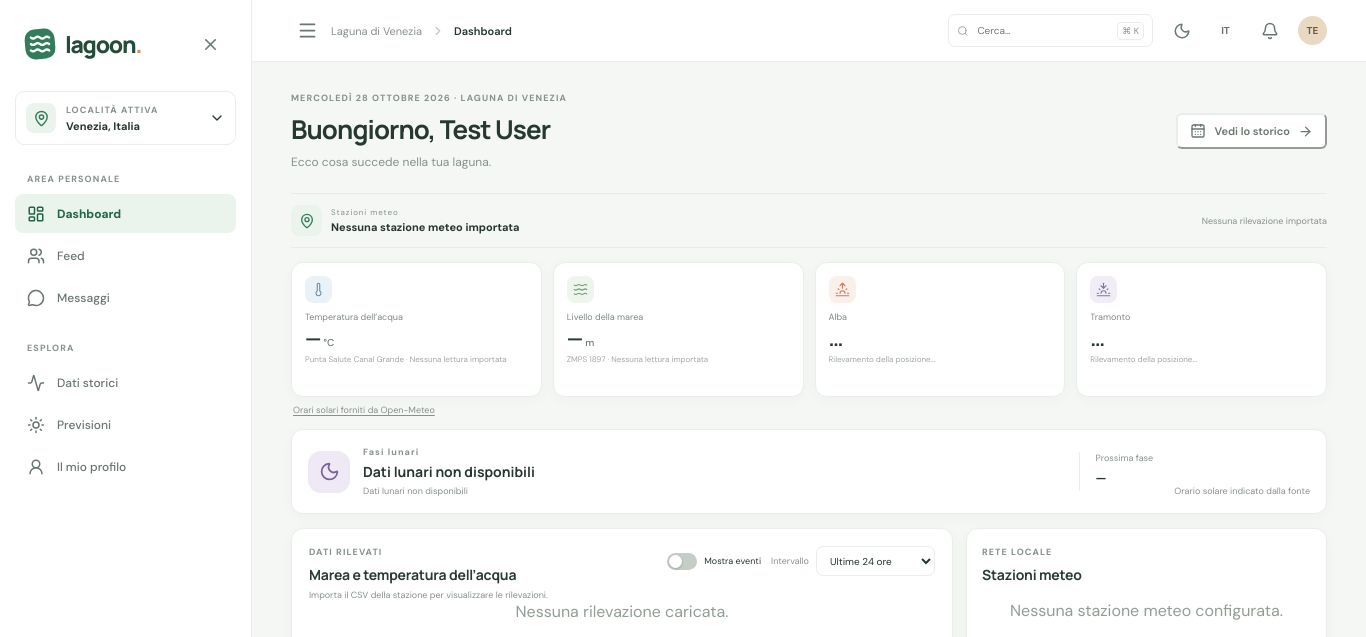
Test: dashboard weather readings › switches translated dashboard content between Italian and English
The width and height of the screenshot is (1366, 637).
Expected: the heading "Marea e temperatura dell’acqua" is shown, [309, 565, 548, 584]
Click the button with aria-label "Cambia lingua": x=1226, y=30 [1210, 15, 1241, 46]
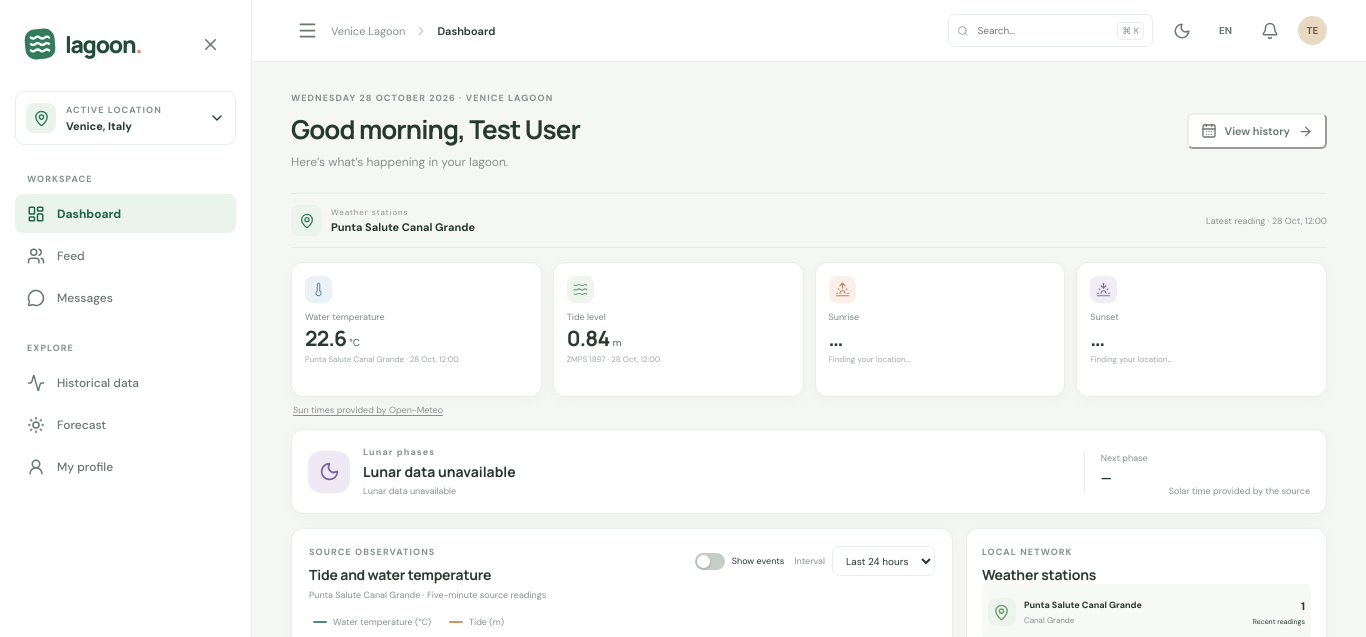
Expected: the heading "Tide and water temperature" is shown, [309, 565, 491, 584]
Expected: the text "Water temperature" is shown, [305, 311, 385, 323]
